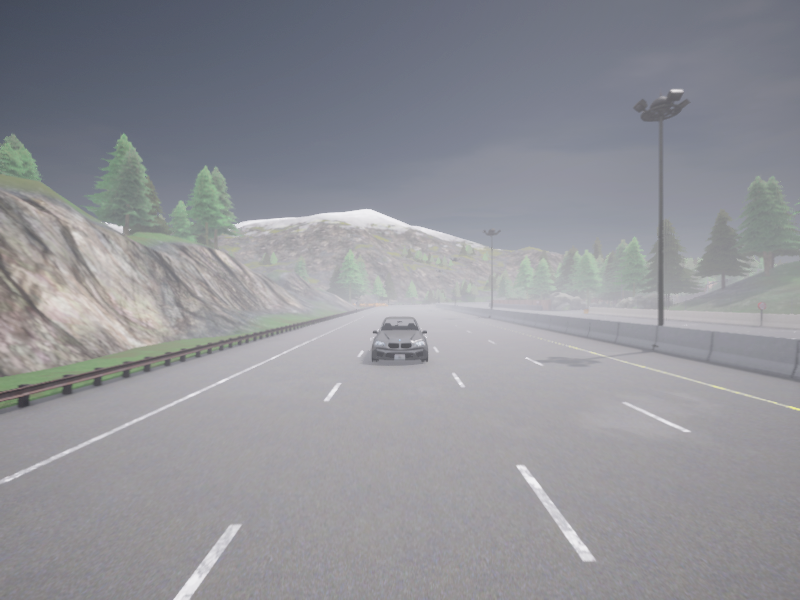vehicle: (371, 317, 428, 362)
